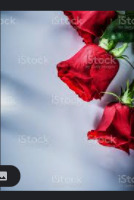RedRose: (54, 38, 118, 99), (85, 92, 134, 156), (60, 11, 117, 45)
